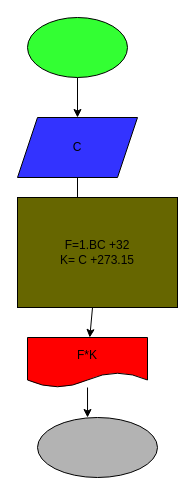
Image size: 195x495. Some labels were removed from this diagram. Each missing label, with the centre of its shape:
FIN: (x=97, y=447)
INICIO: (x=77, y=47)
